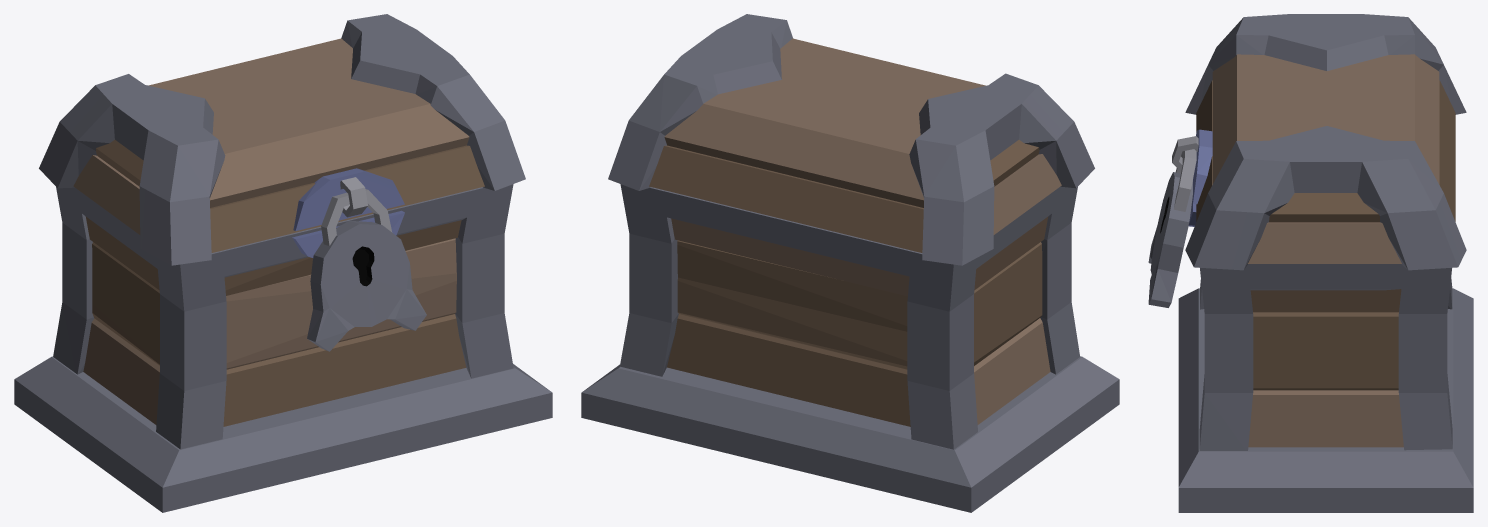
File: _trunk_5.fbx
The picture shows the model from 3 angles, left to right: view 1: azimuth 30°, elevation 25°; view 2: azimuth 150°, elevation 25°; view 3: azimuth 270°, elevation 25°; orthographic projection.
Parts seen in each view (by area): view 1: trunk_5; view 2: trunk_5; view 3: trunk_5.
Boxes of the visible parts, bbox=[...] form: trunk_5: bbox=[14, 14, 552, 512]; trunk_5: bbox=[581, 14, 1119, 512]; trunk_5: bbox=[1148, 14, 1473, 512].
Bounding box in the file's own units: 101 × 81.84 × 73.07.
